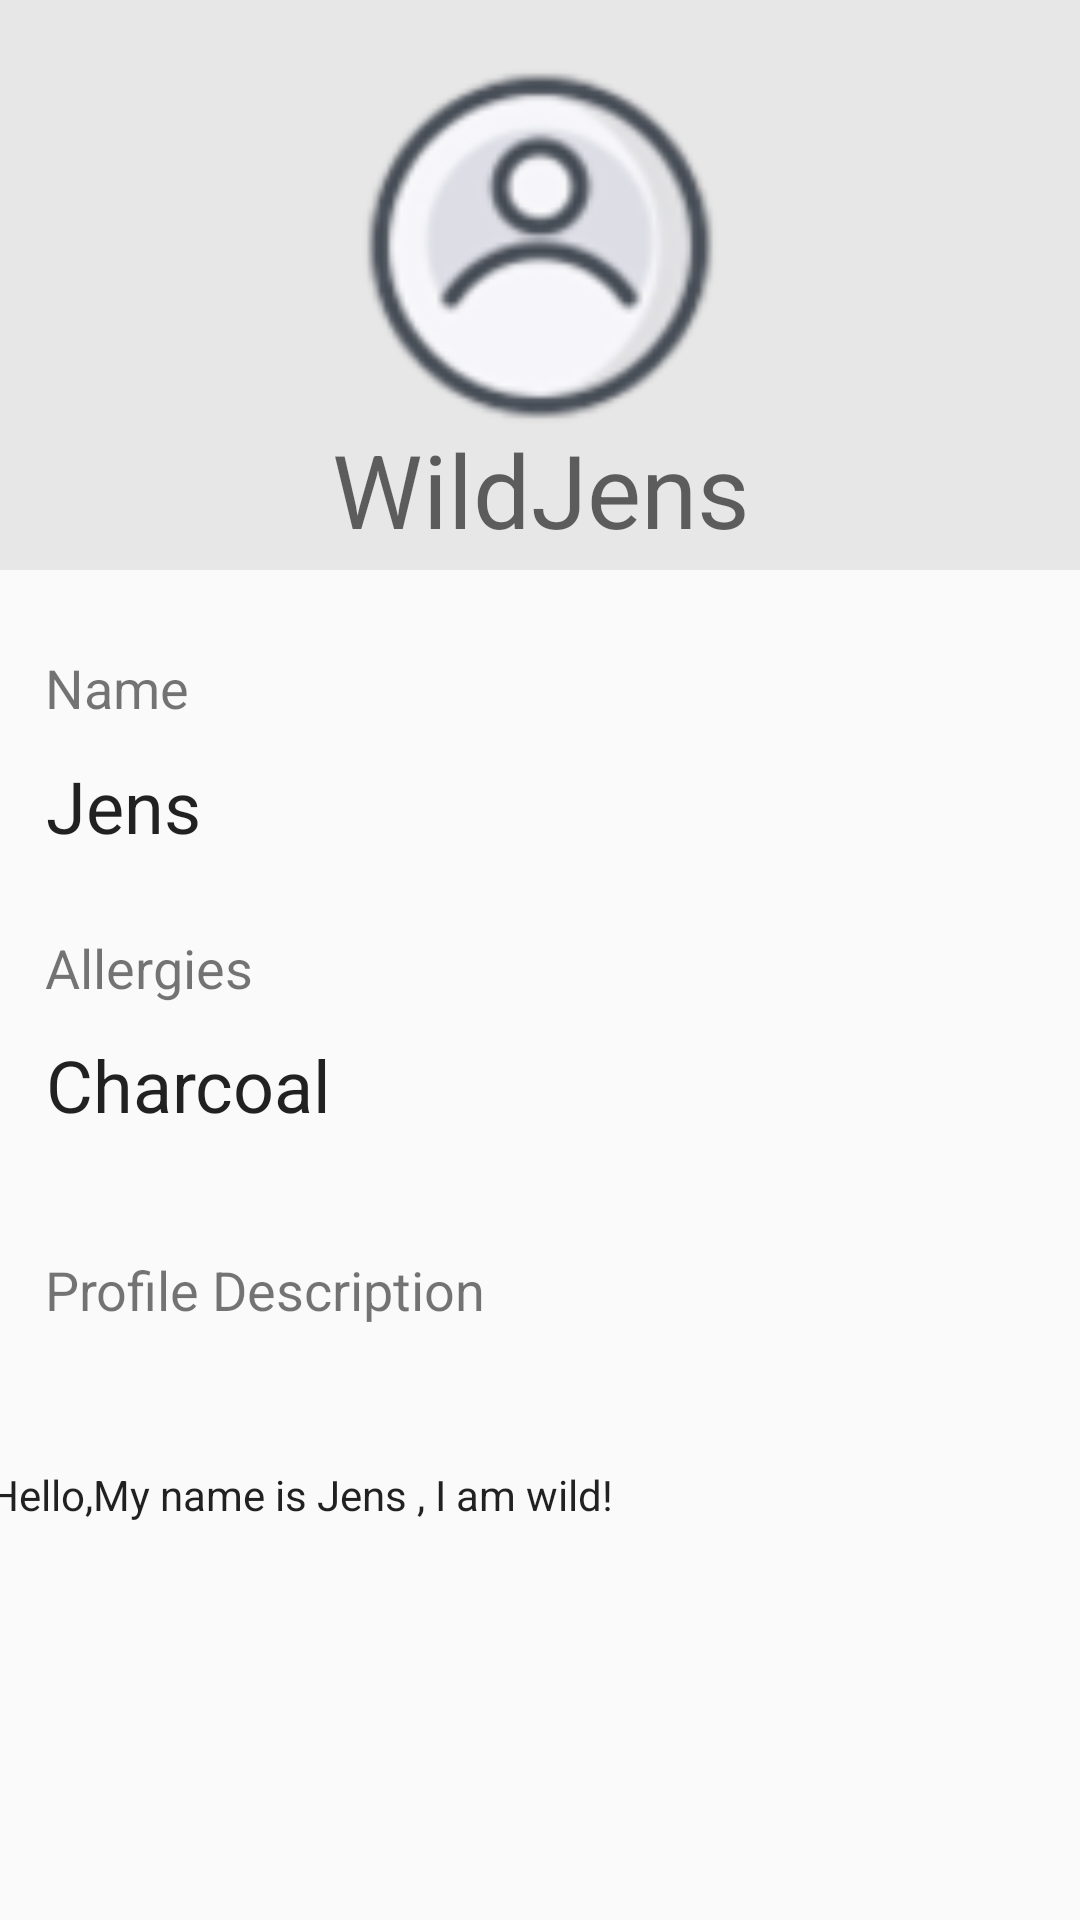

Icon bounding boxes for this 1080w x 1920h phone screenshot, format (x1, y1, x2, y2):
profile: (366, 72, 714, 420)
